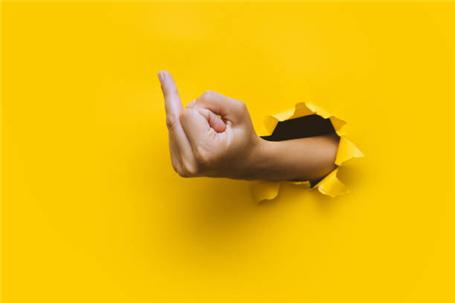insulting_gesture: (157, 64, 265, 184)
